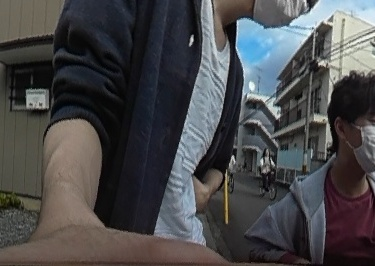person: (256, 78, 375, 266), (258, 147, 273, 188), (224, 150, 234, 184)
